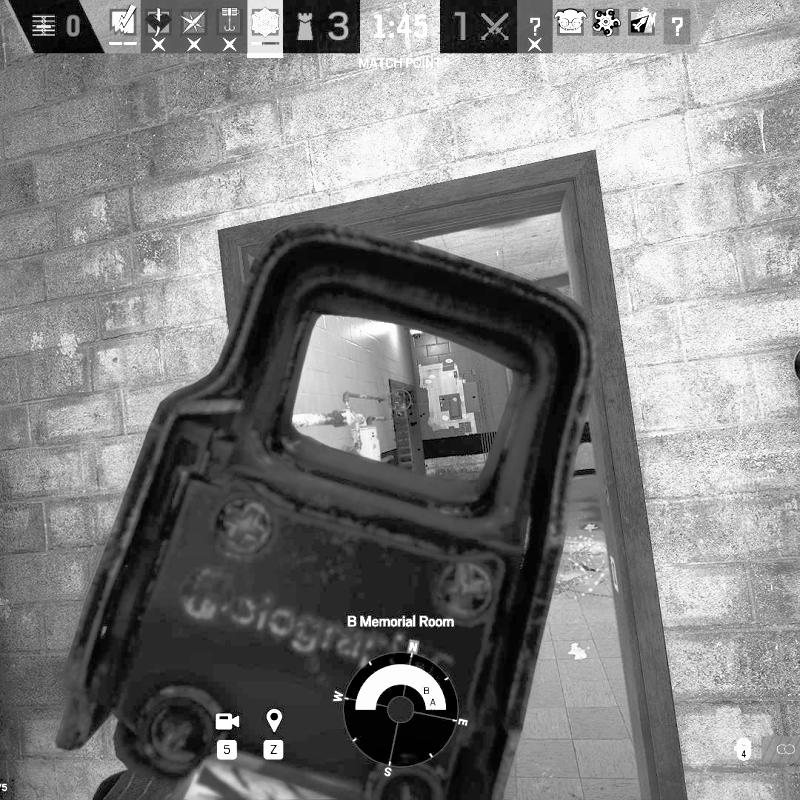Character: (394, 390, 406, 418)
